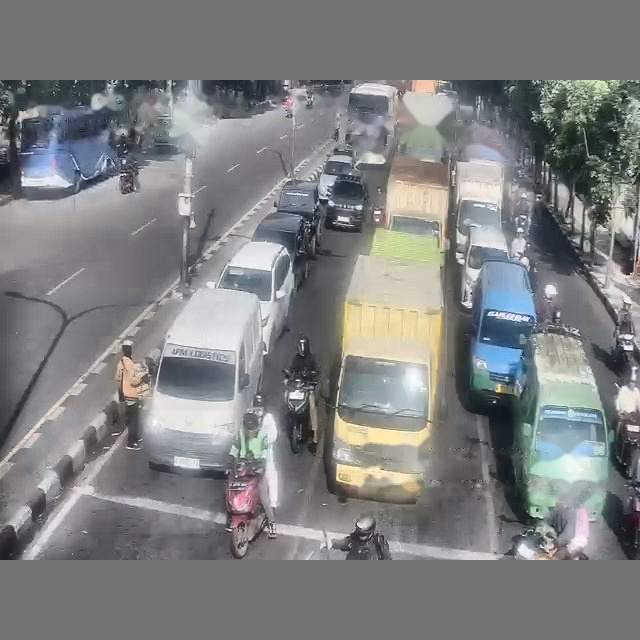Bis: (19, 105, 116, 195), (345, 82, 398, 164)
Mobil: (217, 241, 294, 353), (253, 212, 308, 289), (274, 179, 324, 258), (325, 175, 368, 230), (318, 154, 355, 203)
Motor: (225, 460, 267, 558), (282, 369, 317, 453), (613, 412, 639, 480), (505, 528, 558, 559), (625, 481, 639, 559), (613, 331, 634, 370), (118, 157, 137, 194)
Truk: (324, 255, 443, 503), (372, 156, 450, 264), (455, 160, 504, 258)
